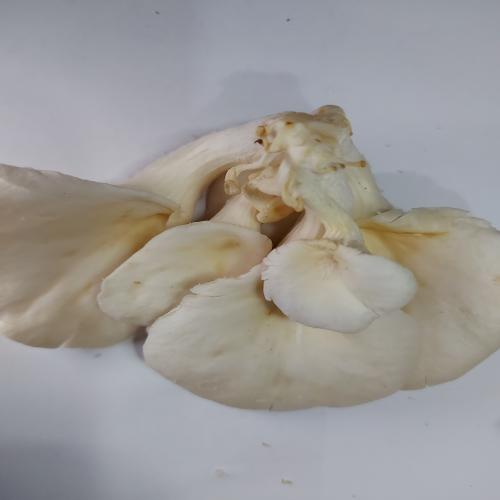Oyster Mushroom: (2, 104, 499, 411)
